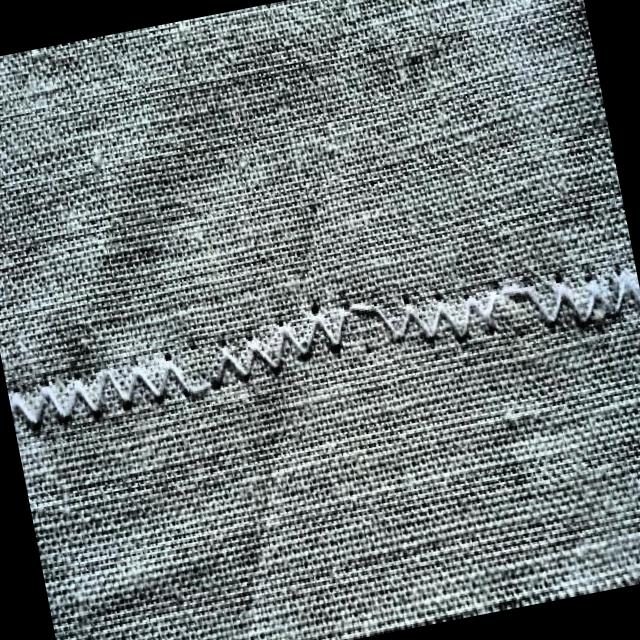gray stitch: (149, 298, 292, 440), (484, 276, 557, 339), (331, 293, 404, 352)
